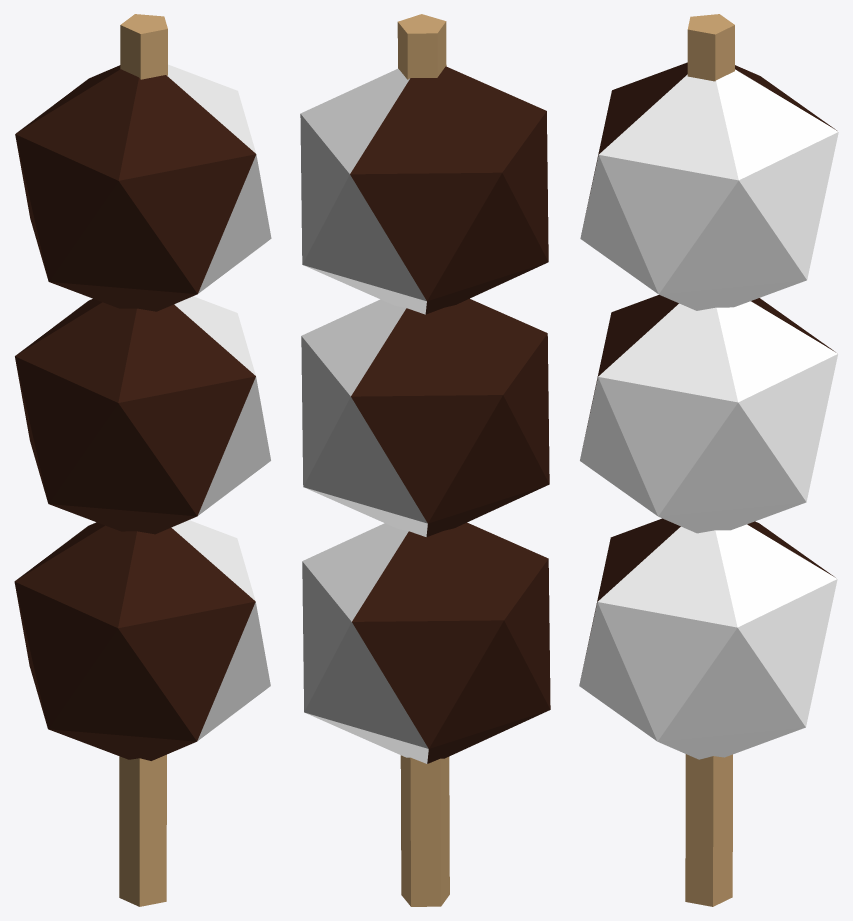
File: dango_anko.fbx
3 renders of one model, left to right at view 1: azimuth 30°, elevation 25°; view 2: azimuth 150°, elevation 25°; view 3: azimuth 270°, elevation 25°, orthographic.
Parts seen in each view (by area): view 1: dango_anko; view 2: dango_anko; view 3: dango_anko.
Boxes of the visible parts, x1,y1,x2,y2 form: dango_anko: (14,14,271,906); dango_anko: (300,14,550,906); dango_anko: (579,14,838,906).
Size of the model in its own units: 3.15 by 11.95 by 3.22.
